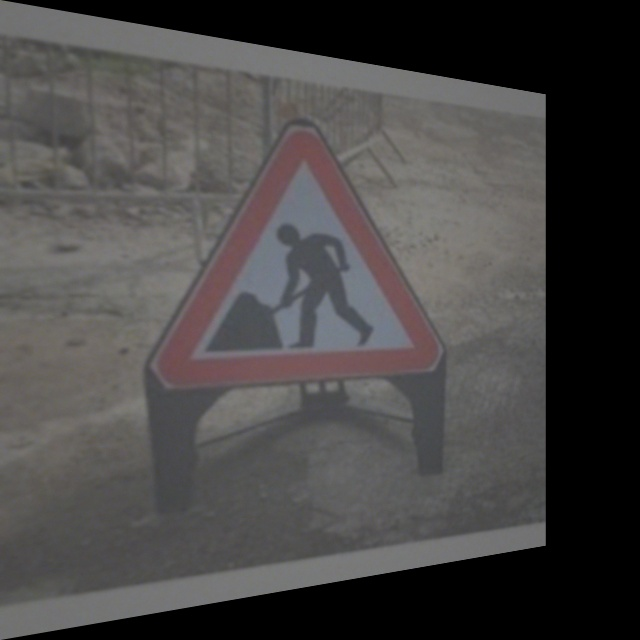Men_at_Work: (143, 95, 445, 384)
